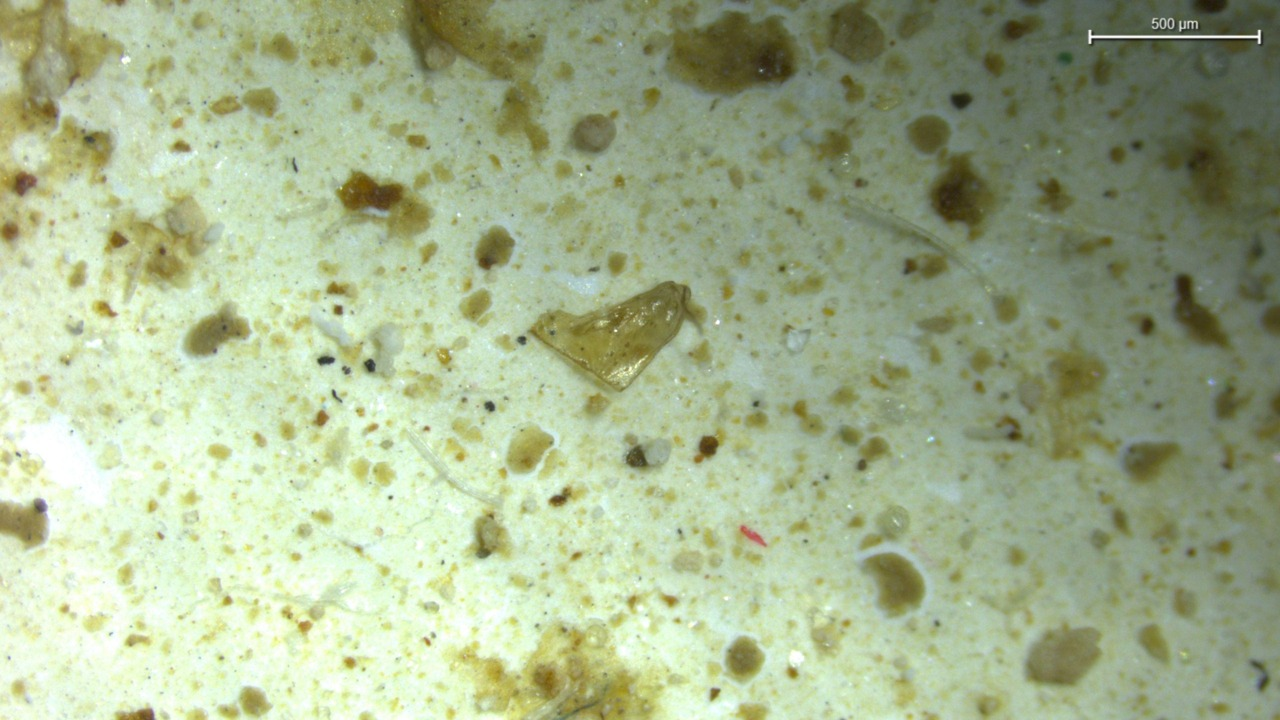microplastic_fragment: (530, 282, 692, 391), (370, 323, 403, 375), (310, 308, 351, 346), (625, 439, 671, 468), (785, 328, 811, 354)
